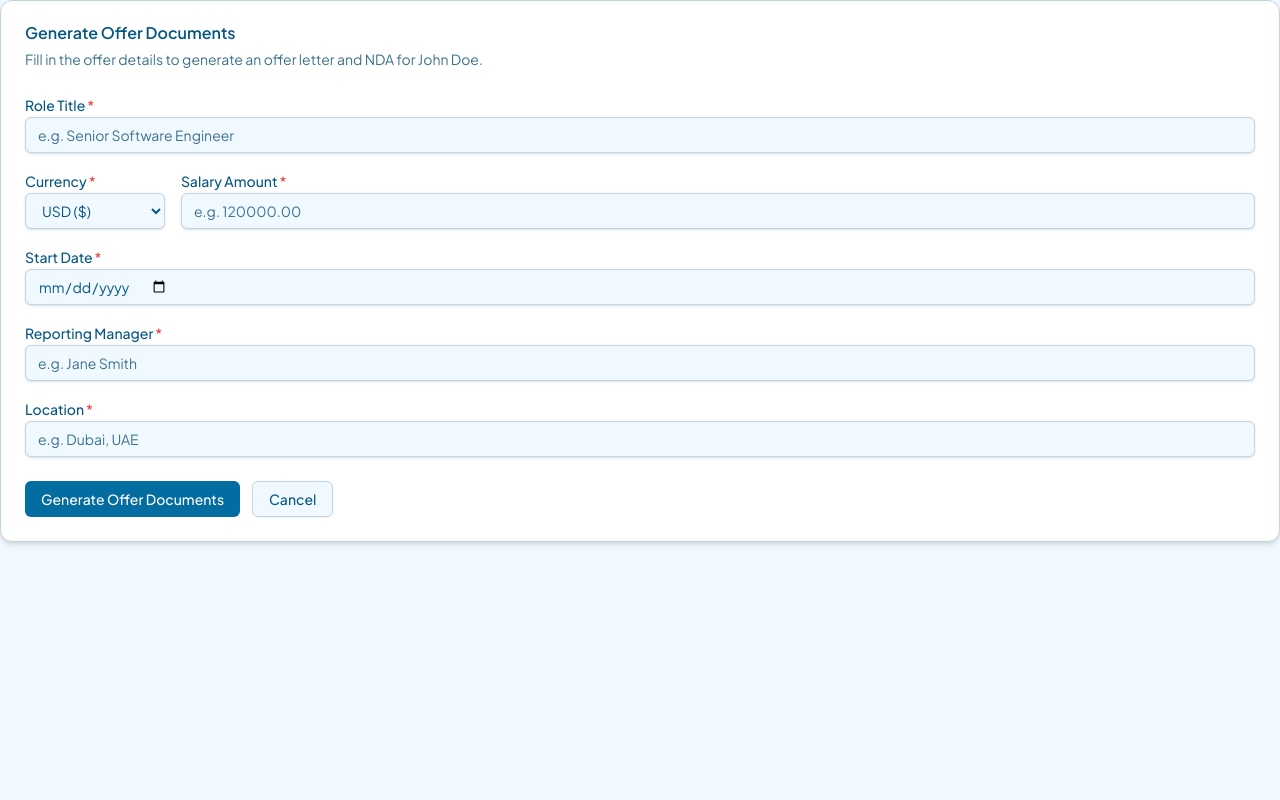
it: OfferGenerationForm › Client-side Validation › shows error when salary exceeds maximum (9,999,999.99)
Type "10000000" into the number field labelled "Salary Amount*" at point(718, 211), box [181,193,1255,229]
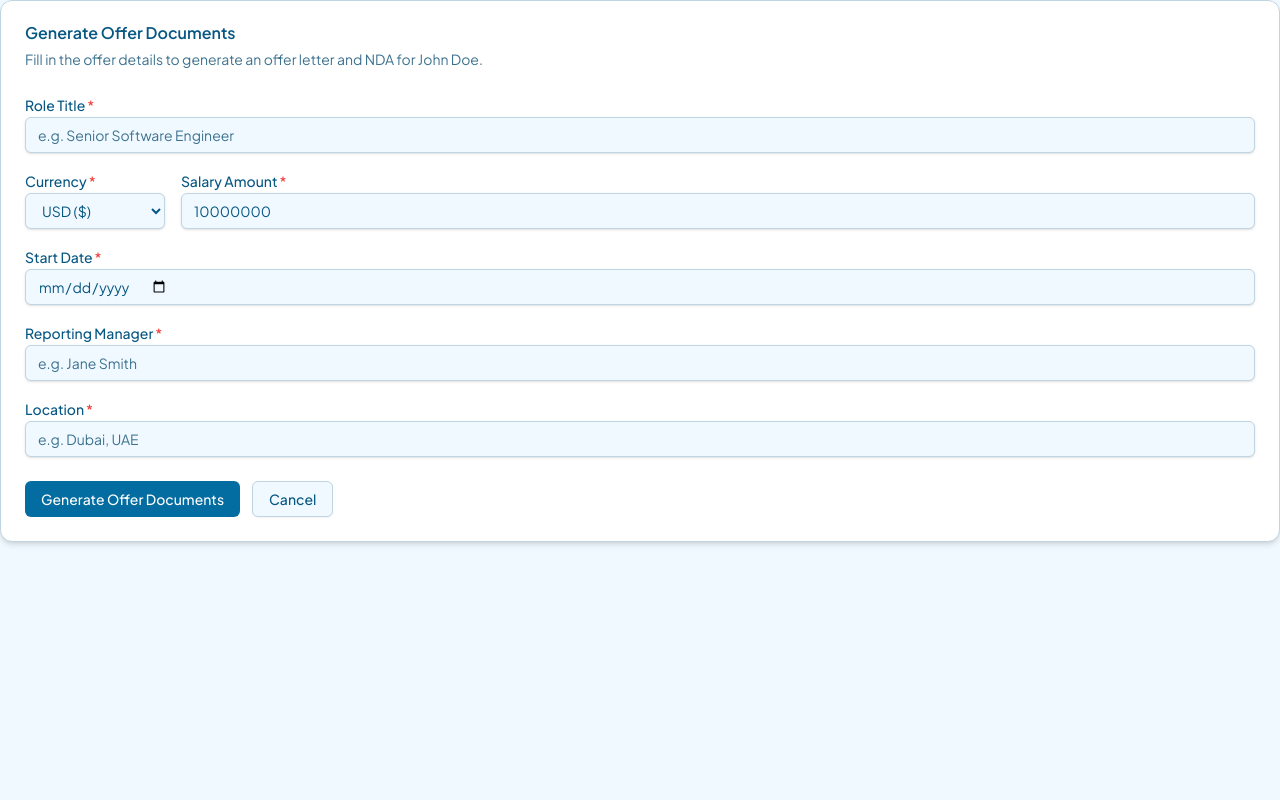
Leave the number field labelled "Salary Amount*", box [181,193,1255,229]
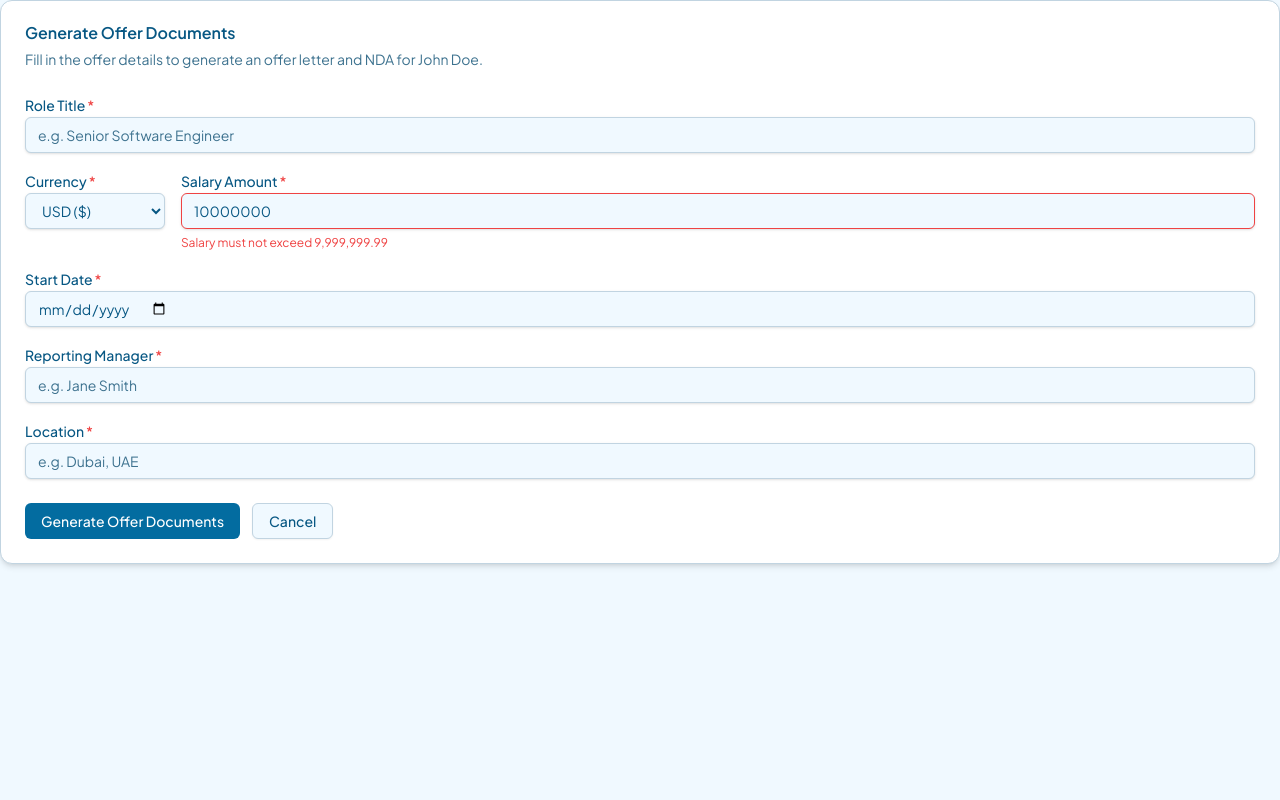
Check: the text "Salary must not exceed 9,999,999.99" is shown, box [181,235,388,250]
